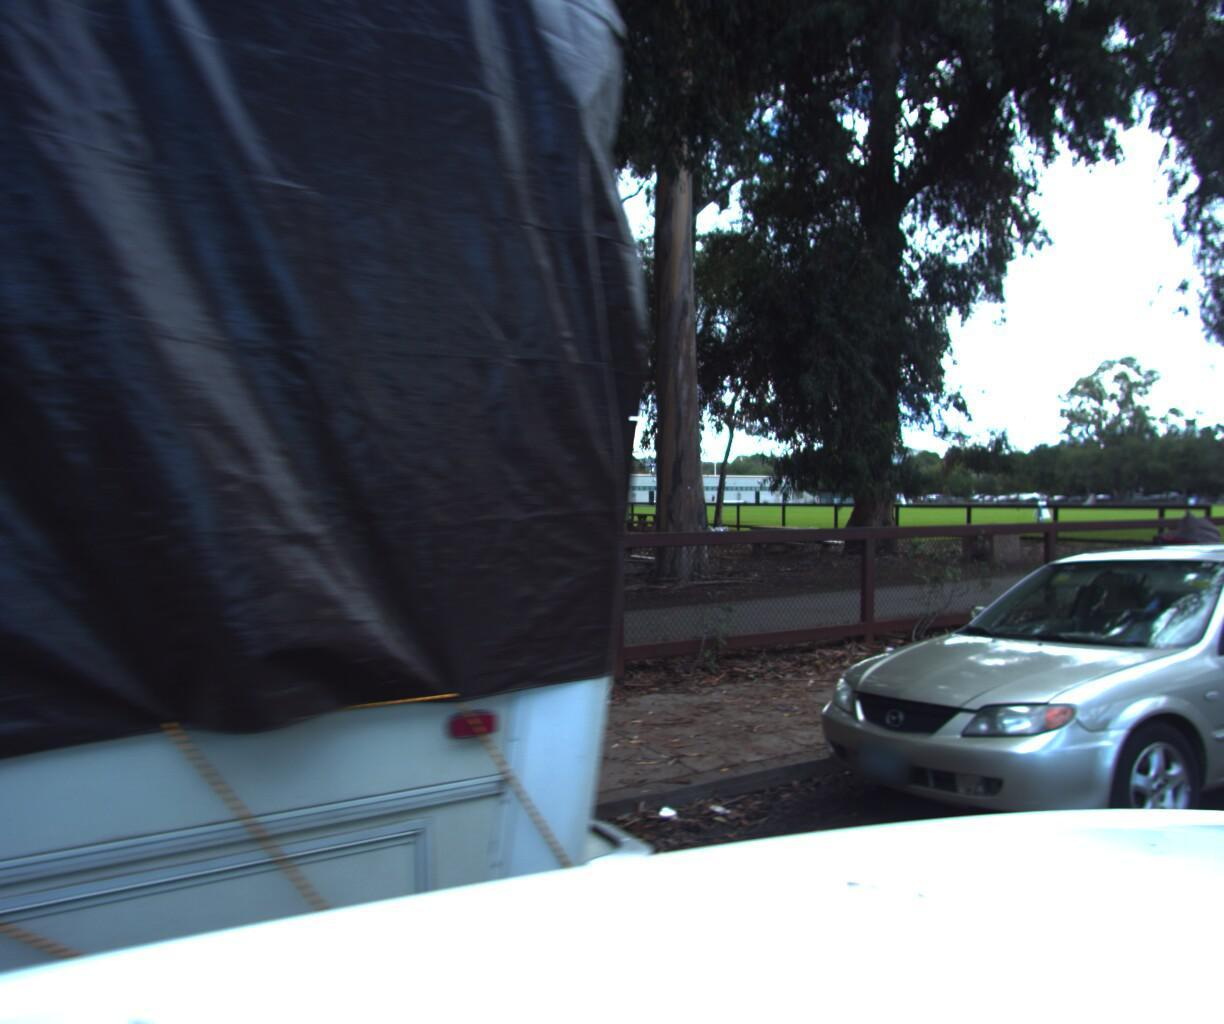car: (776, 524, 1224, 927)
